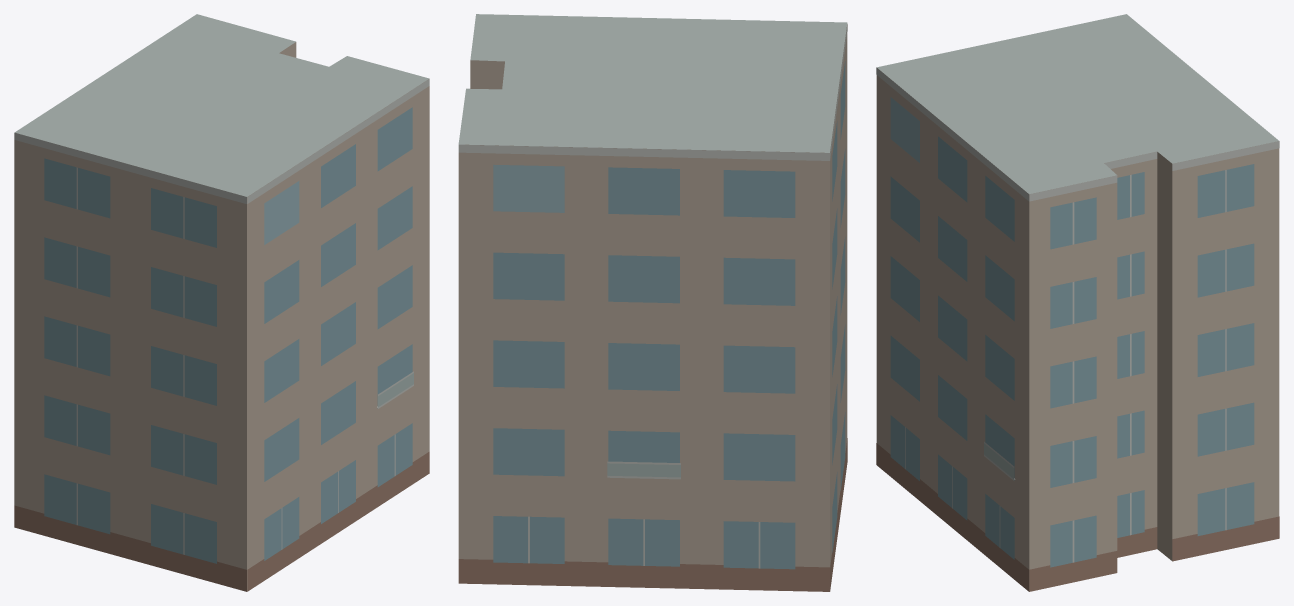
File: survey-upis-32978719.glb
3 renders of one model, left to right at view 1: azimuth 30°, elevation 25°; view 2: azimuth 150°, elevation 25°; view 3: azimuth 270°, elevation 25°, orthographic. The views are drawn at different scales.
Visible parts, largest first — view 1: survey-upis-32978719.tmp; view 2: survey-upis-32978719.tmp; view 3: survey-upis-32978719.tmp.
Part boxes in pixels (x1,y1,x2,y2): survey-upis-32978719.tmp: [14, 14, 429, 591]; survey-upis-32978719.tmp: [458, 14, 847, 591]; survey-upis-32978719.tmp: [876, 14, 1279, 591].
Bounding box in the file's own units: 12.84 × 13.2 × 12.13.
